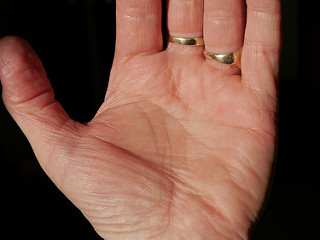palm: (95, 54, 263, 232)
